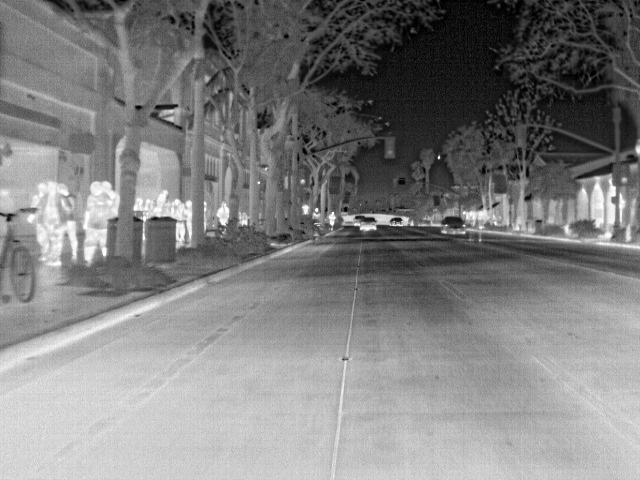car: (442, 214, 465, 236), (359, 218, 379, 236), (352, 213, 369, 227), (388, 215, 404, 226)
person: (82, 181, 111, 265), (40, 180, 64, 265), (59, 184, 80, 262), (171, 197, 187, 246), (101, 182, 119, 217), (183, 198, 196, 246), (216, 202, 229, 227), (327, 211, 339, 229)
